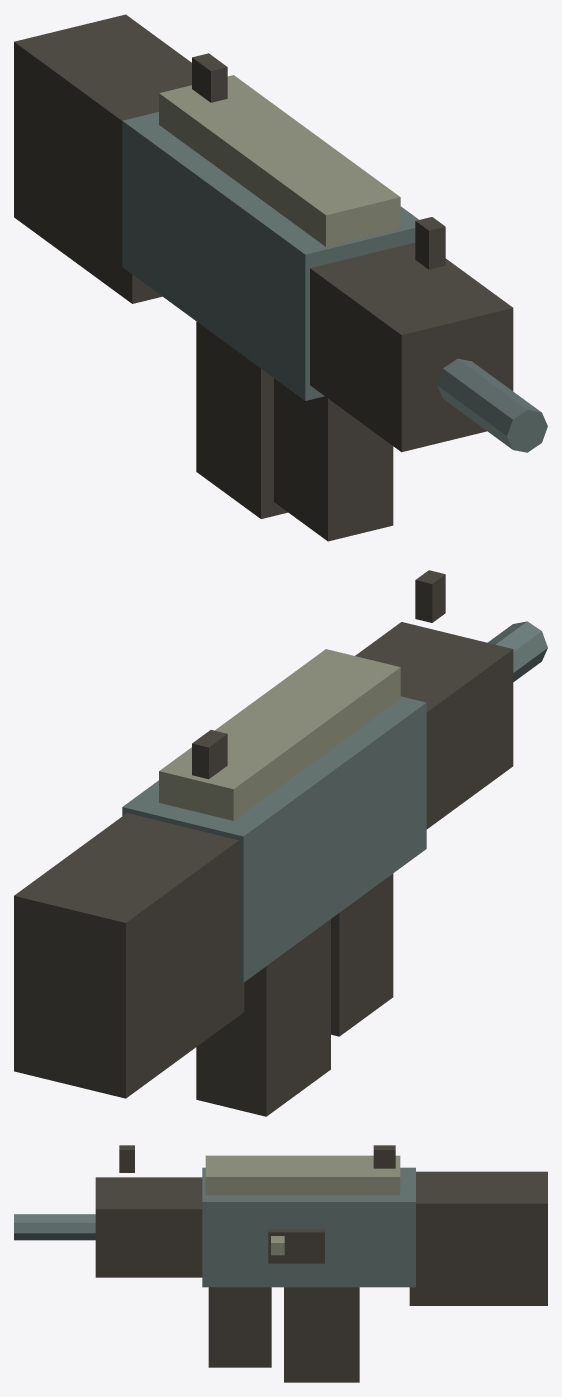
Rendered from weapon_rifle_lod0.obj.
3 views of the same model, one above another, from view 1: azimuth 30°, elevation 25°; view 2: azimuth 150°, elevation 25°; view 3: azimuth 270°, elevation 25° (orthographic). The views are drawn at different scales.
Parts seen in each view (by area): view 1: weapon_rifle_lod0; view 2: weapon_rifle_lod0; view 3: weapon_rifle_lod0.
Part boxes in pixels (x1,y1,x2,y2): weapon_rifle_lod0: (14, 14, 547, 541); weapon_rifle_lod0: (14, 570, 547, 1116); weapon_rifle_lod0: (14, 1145, 547, 1382).
Size of the model in its own units: 0.168 by 0.395 by 0.85.
Materials: 1 (1 with a texture image).
